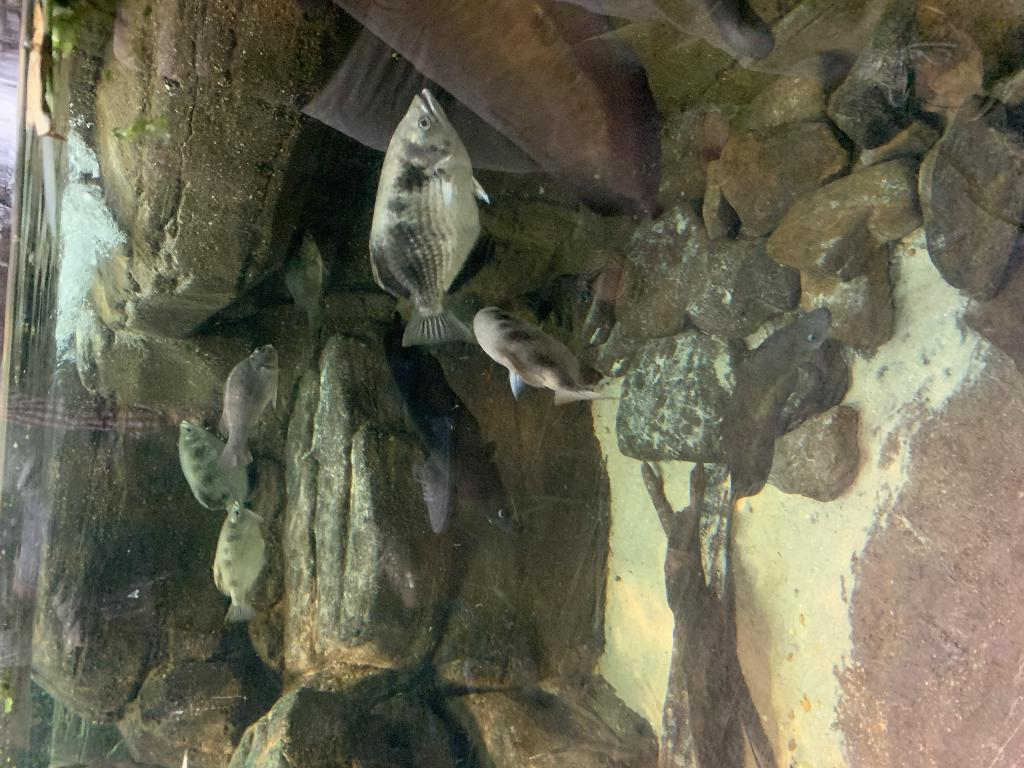fish: (372, 88, 488, 350), (710, 306, 840, 502), (472, 302, 620, 412), (212, 330, 282, 464), (211, 502, 275, 624), (176, 411, 248, 517)
